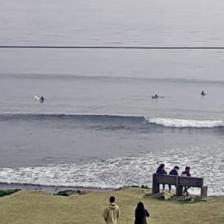surfer: (200, 90, 206, 96), (152, 93, 158, 98), (40, 95, 44, 102)
